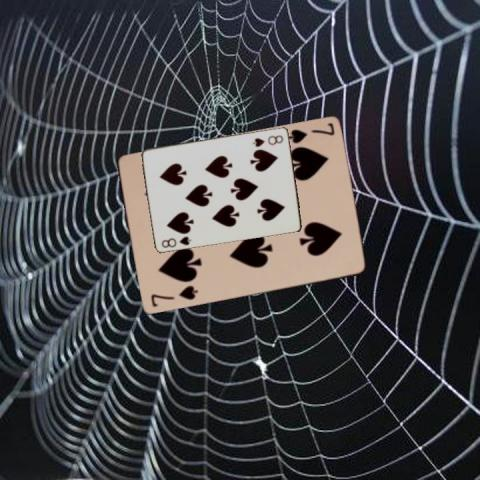7s: (147, 282, 200, 308), (285, 120, 336, 145)
8s: (250, 132, 285, 148), (158, 233, 192, 249)
